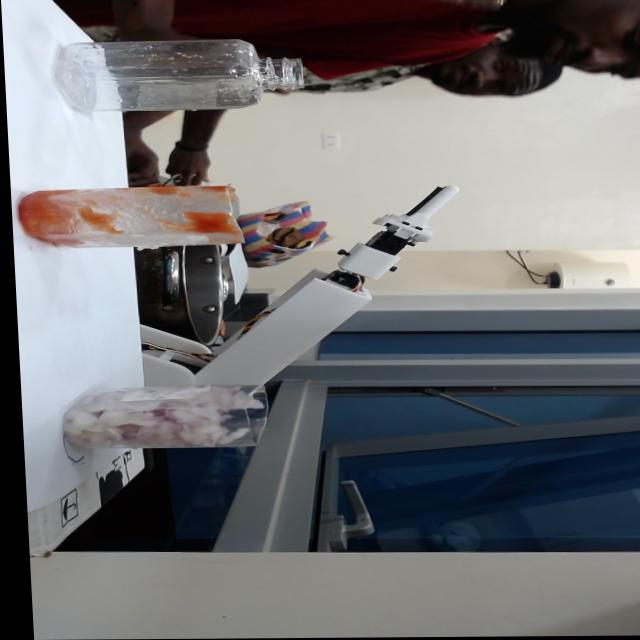blended_tomatoes_pepper: (14, 179, 226, 244)
sliced_onions: (40, 386, 247, 456)
